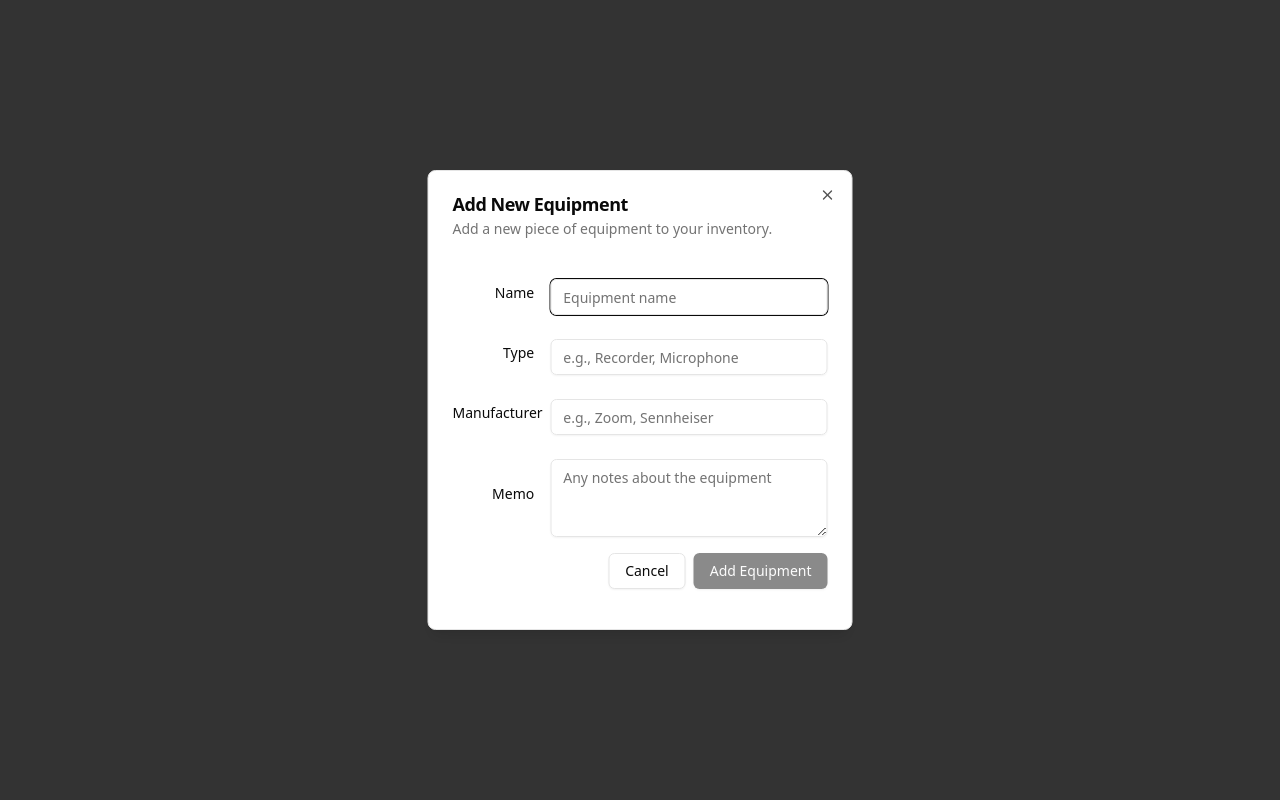
EquipmentFormModal › shows API error message if submission fails (e.g., name conflict)
Type "Existing Name" into the field labelled "Name".
click(689, 297); type("Existing Name")  # box [550,279,828,315]
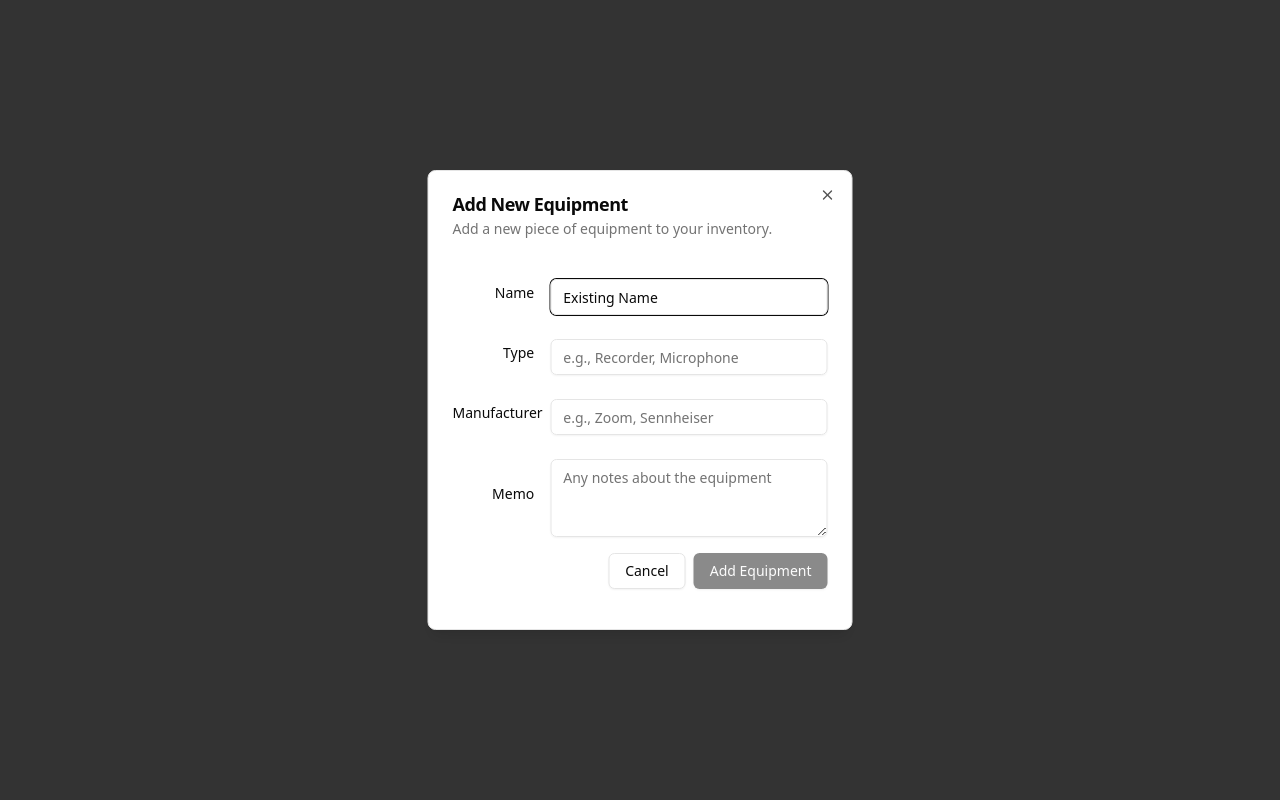
Type "Some Type" into the field labelled "Type".
click(689, 357); type("Some Type")  # box [550,339,828,375]
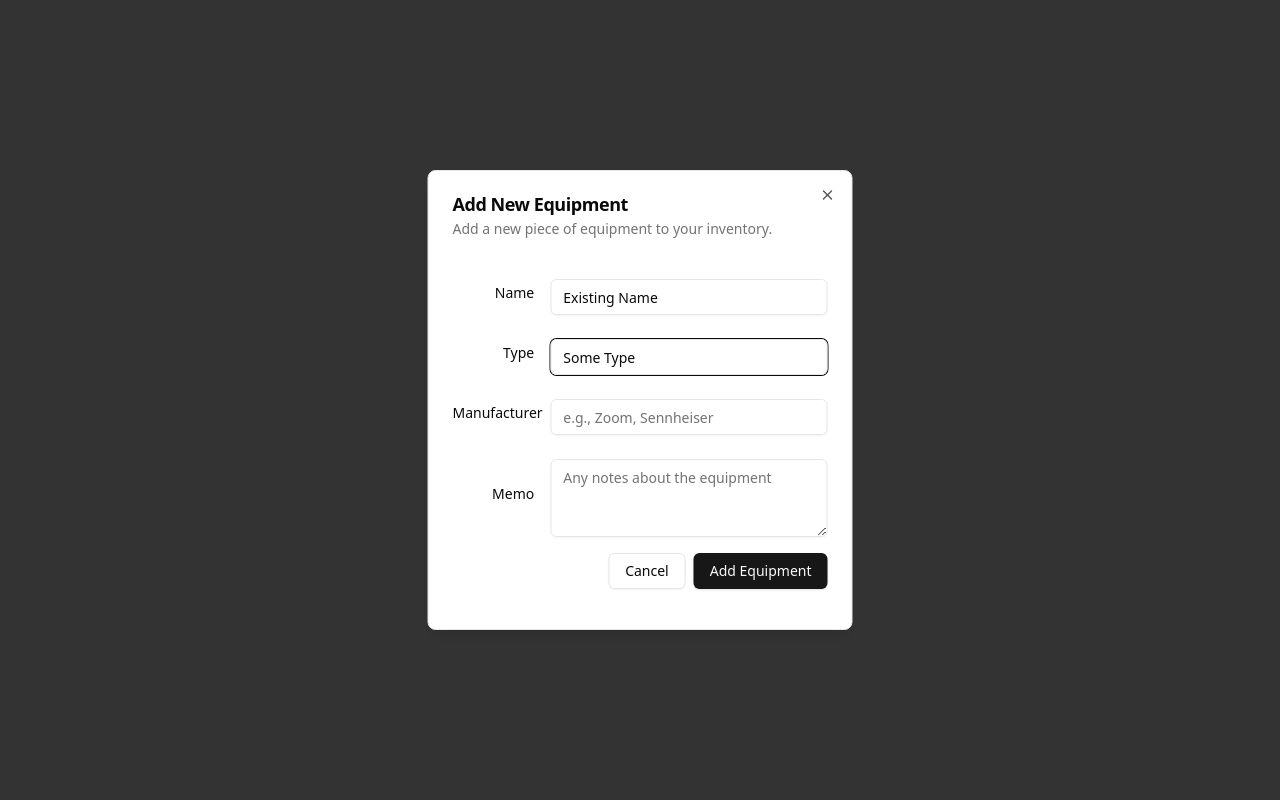
Click the button "Add Equipment".
click(761, 571)  # box [694,553,828,589]
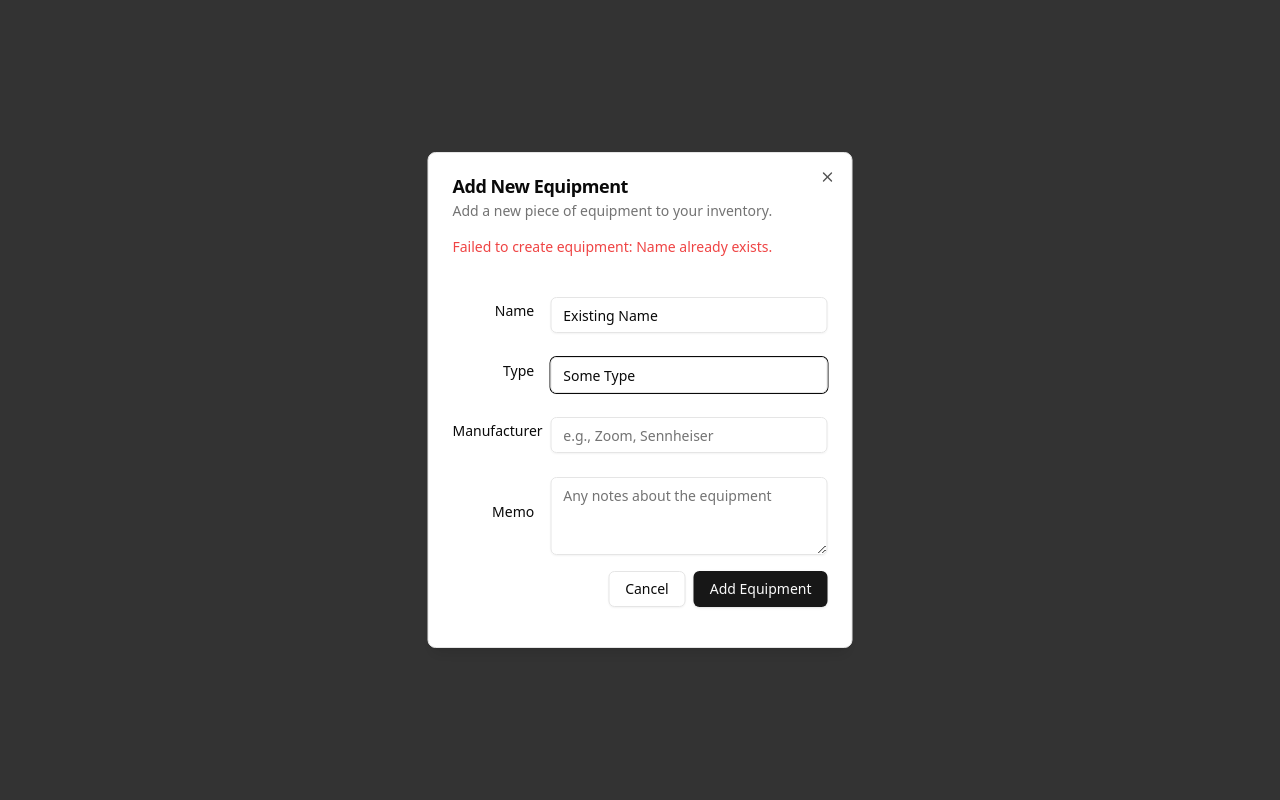
Expected: the text "Failed to create equipment: Name already exists." is shown, [452,237,828,257]
